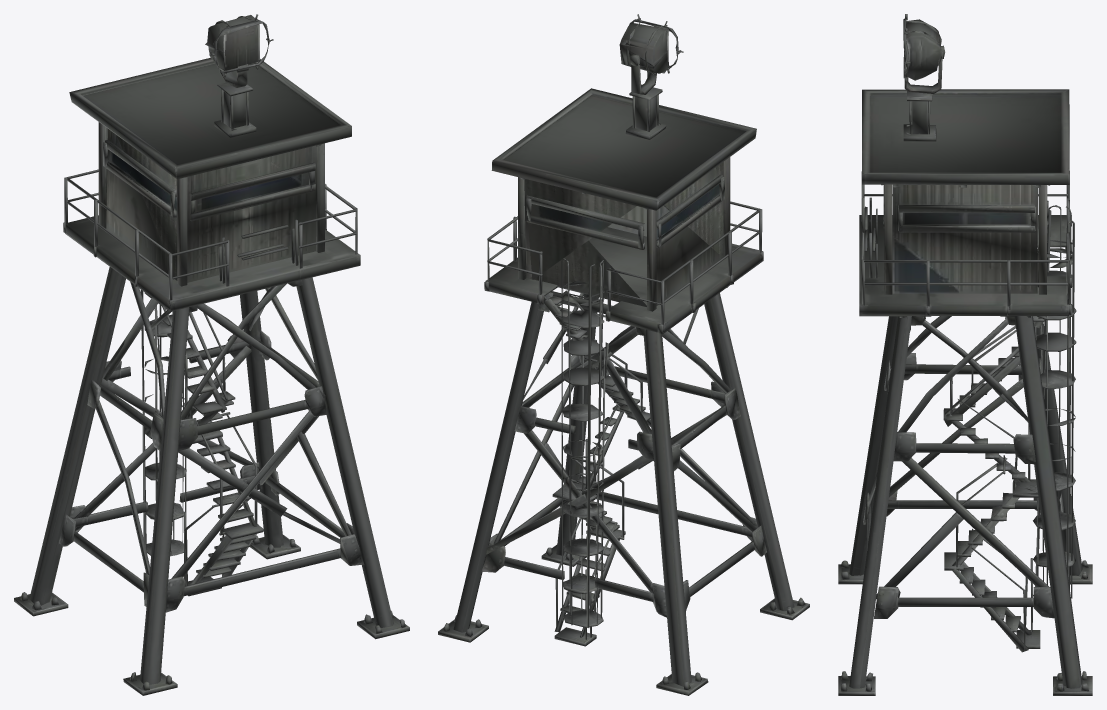
The model's file is junkyard_watchtower.glb.
3 renders of one model, left to right at view 1: azimuth 30°, elevation 25°; view 2: azimuth 150°, elevation 25°; view 3: azimuth 270°, elevation 25°, orthographic. The views are drawn at different scales.
Parts seen in each view (by area): view 1: Meshy_AI_junkyard_watchtower_3d_20261028_texture; view 2: Meshy_AI_junkyard_watchtower_3d_20261028_texture; view 3: Meshy_AI_junkyard_watchtower_3d_20261028_texture.
Boxes of the visible parts, x1=… form: Meshy_AI_junkyard_watchtower_3d_20261028_texture: x1=14, y1=14, x2=409, y2=695; Meshy_AI_junkyard_watchtower_3d_20261028_texture: x1=438, y1=14, x2=809, y2=695; Meshy_AI_junkyard_watchtower_3d_20261028_texture: x1=838, y1=14, x2=1092, y2=695.
Size of the model in its own units: 3.61 by 8 by 3.01.
Materials: 1 (1 with a texture image).
